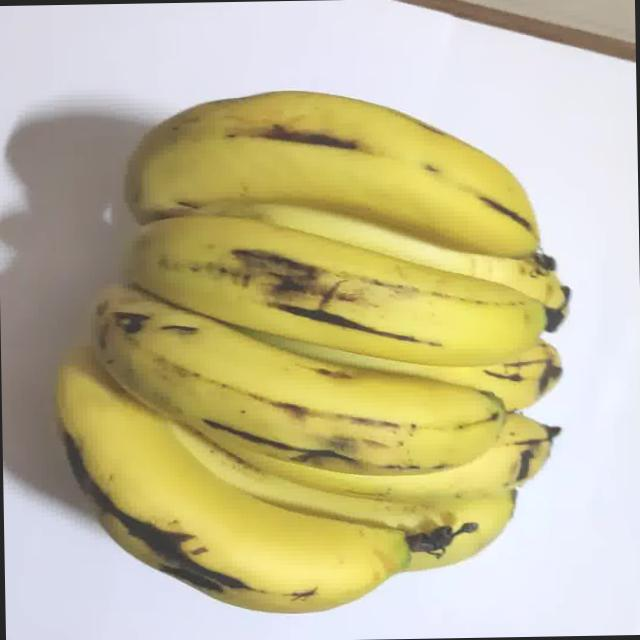banana_pacche: (4, 30, 614, 640)
